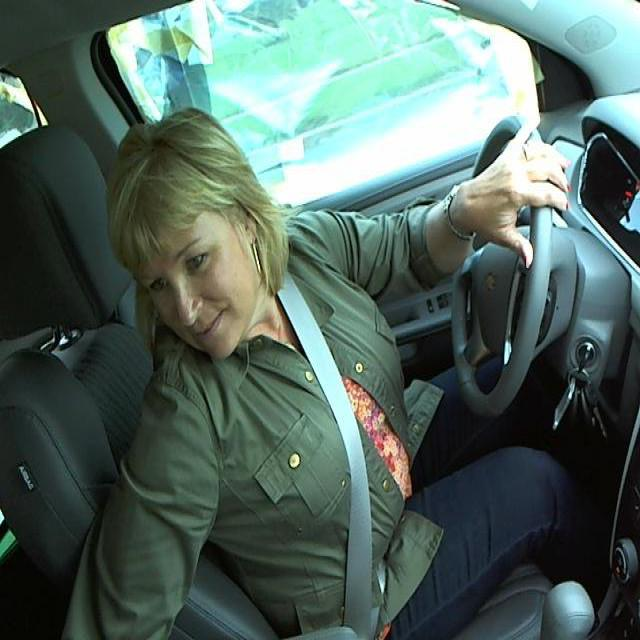seatbelt: (288, 312, 395, 627)
